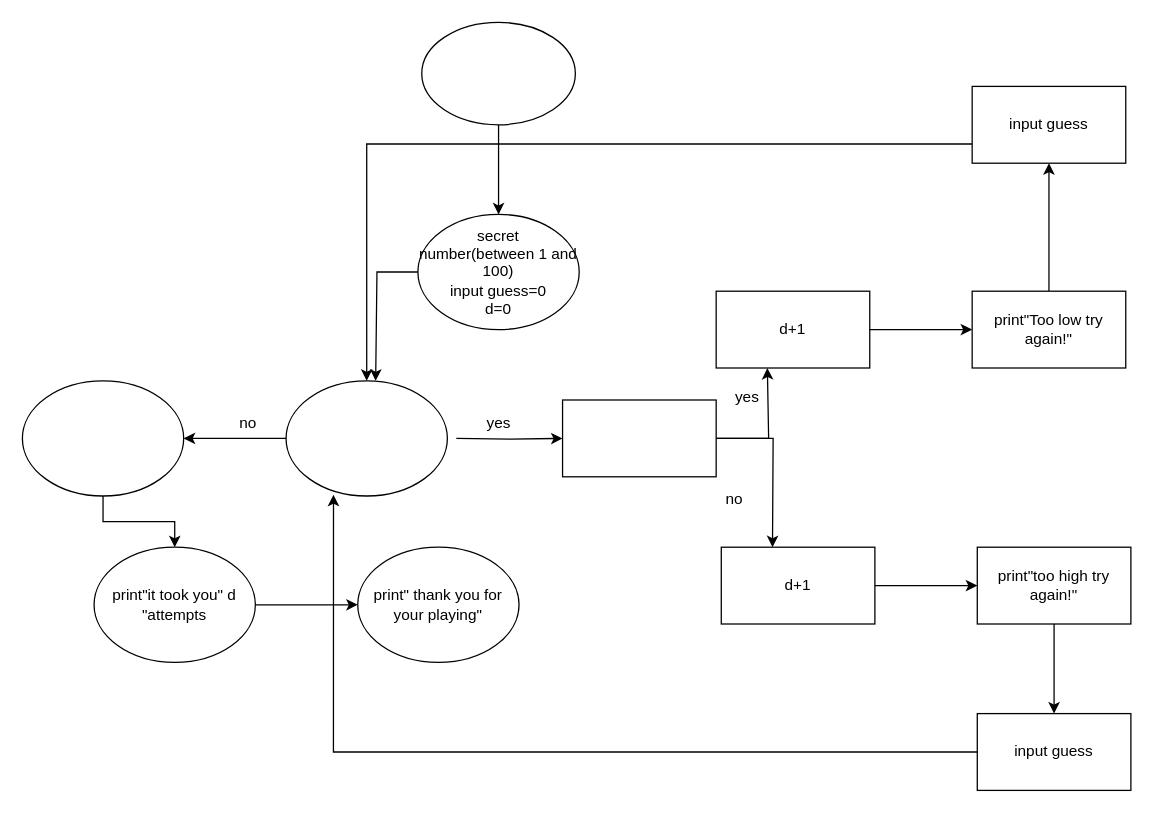
Image size: 1153x813. Some labels were removed from this diagram. The shapes that lost their labels are listed below. From the top down, each one's box as (x1, y1, x2, y2) in pixels, then its label:
(420, 21, 575, 125): start
(21, 380, 184, 496): print"congratulations! you 've guessed the right number"
(285, 380, 447, 496): secret number != guess
(561, 399, 716, 477): secret number>guess?
